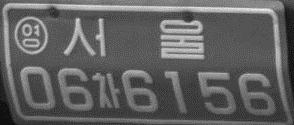0: (19, 65, 55, 111)
1: (160, 69, 192, 115)
5: (196, 71, 236, 114)
6: (56, 67, 94, 111), (238, 72, 275, 116), (121, 69, 157, 113)
서울_D: (61, 17, 204, 61)
영: (12, 15, 48, 55)
차: (94, 71, 120, 109)
